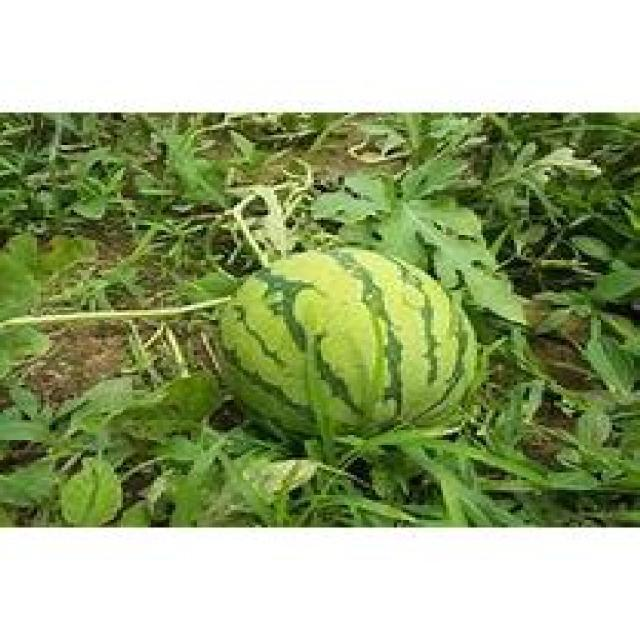watermelon: (220, 249, 483, 434)
